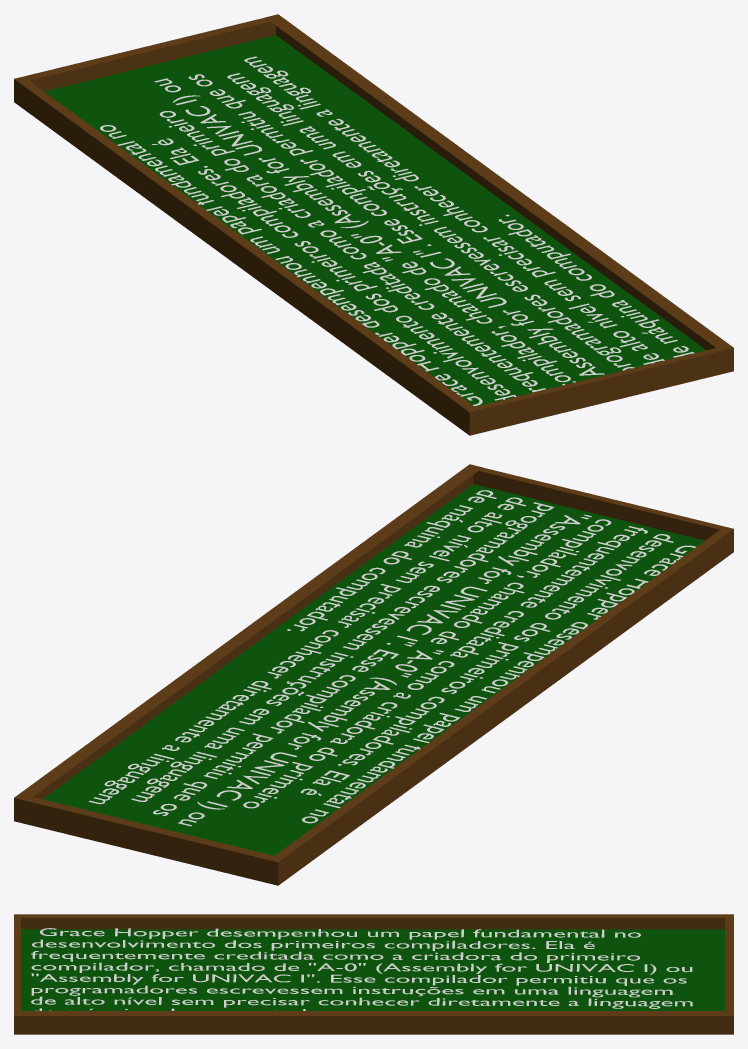
The model's file is Grace5.fbx.
The picture shows the model from 3 angles, top to bottom: view 1: azimuth 30°, elevation 25°; view 2: azimuth 150°, elevation 25°; view 3: azimuth 270°, elevation 25°; orthographic projection. The views are drawn at different scales.
Parts seen in each view (by area): view 1: Cube, Text; view 2: Cube, Text; view 3: Cube, Text.
Boxes of the visible parts, <box> form: Cube: <box>14,14,733,435</box>; Text: <box>100,56,694,406</box>; Cube: <box>14,464,733,885</box>; Text: <box>89,490,695,826</box>; Cube: <box>14,914,733,1034</box>; Text: <box>31,928,692,1010</box>.
Bounding box in the file's own units: 624 × 53.07 × 1865.
